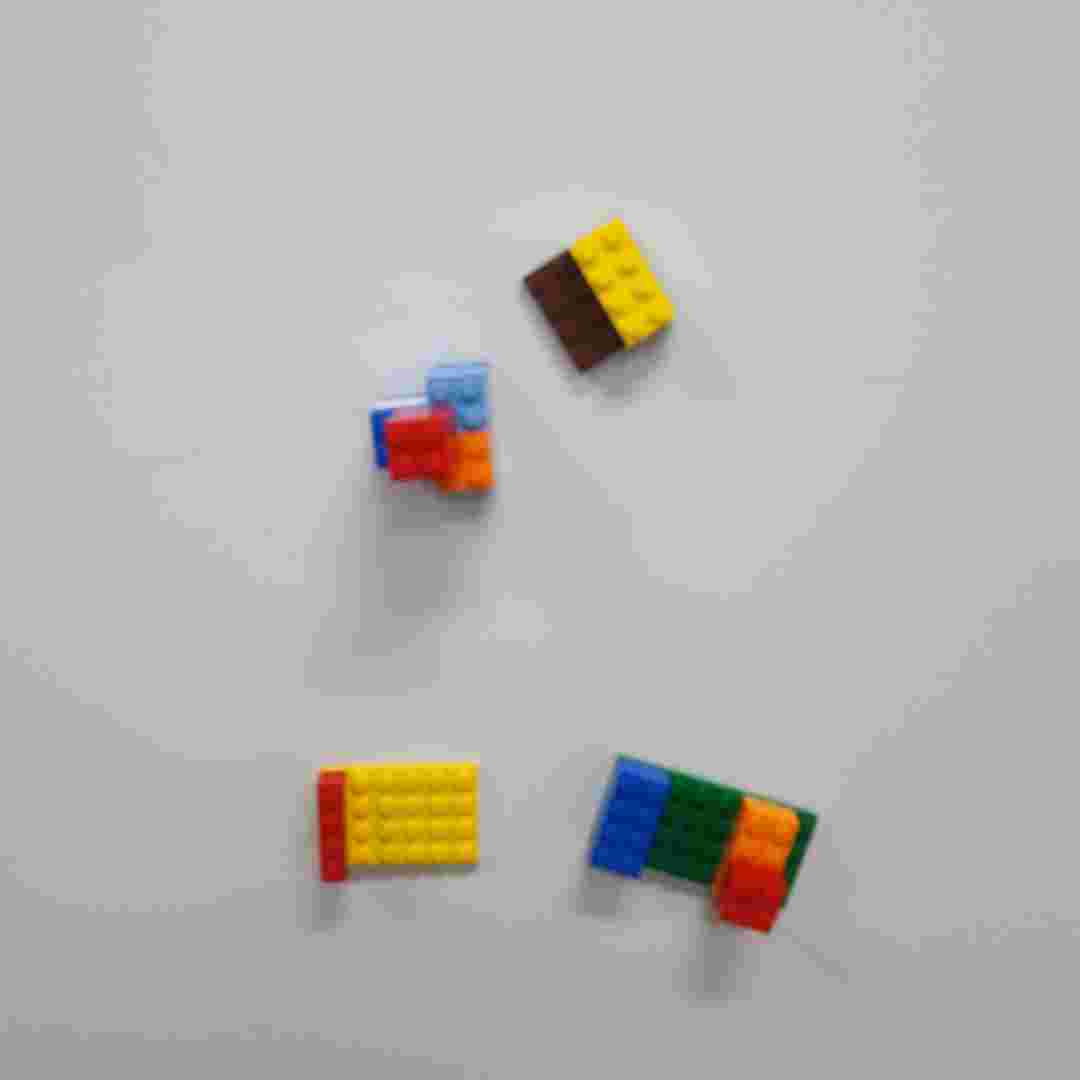LEGO: (579, 756, 820, 935), (517, 213, 682, 380), (312, 760, 493, 882), (369, 364, 501, 500)
